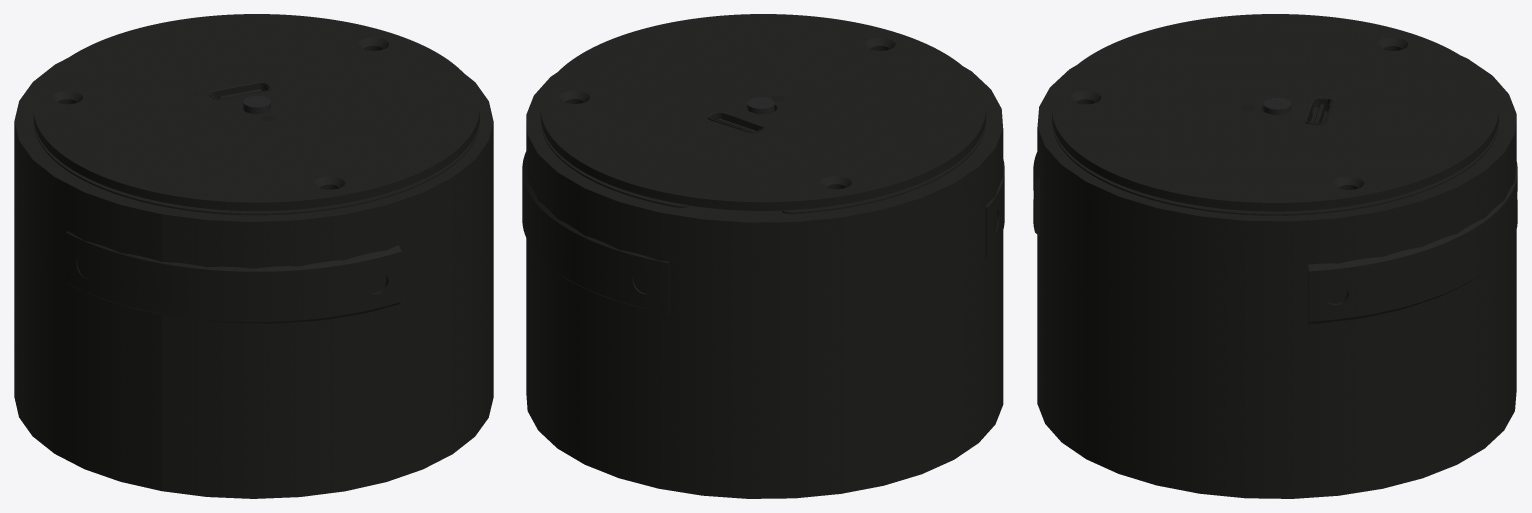
The picture shows the model from 3 angles, left to right: view 1: azimuth 30°, elevation 25°; view 2: azimuth 150°, elevation 25°; view 3: azimuth 270°, elevation 25°; orthographic projection.
Parts seen in each view (by area): view 1: Asset3DLoader.sceneRoot; view 2: Asset3DLoader.sceneRoot; view 3: Asset3DLoader.sceneRoot.
Part boxes in pixels (x1,y1,x2,y2): Asset3DLoader.sceneRoot: (14, 14, 493, 498); Asset3DLoader.sceneRoot: (522, 14, 1004, 498); Asset3DLoader.sceneRoot: (1033, 14, 1517, 498).
Bounding box in the file's own units: 66.36 × 46.35 × 66.73.
3 materials, 3 textured.
